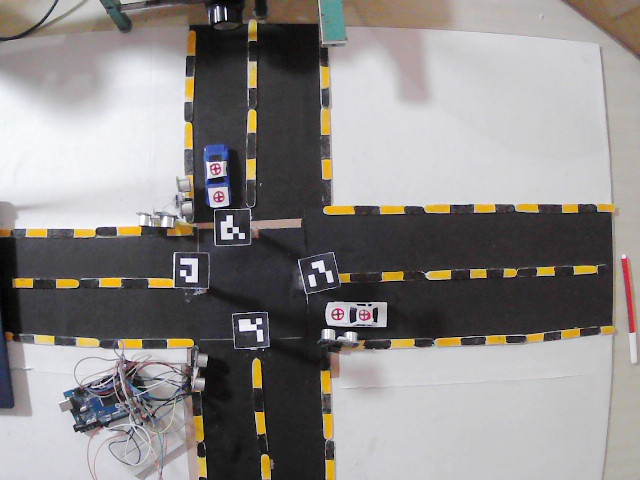aruco_marker: (299, 251, 345, 294), (232, 308, 271, 352), (213, 211, 254, 250), (174, 250, 210, 290)
emergency_vehicle: (200, 141, 233, 207), (325, 299, 391, 329)
uno_breadboard: (59, 364, 145, 434), (109, 409, 189, 477), (316, 329, 359, 354), (171, 175, 193, 220), (190, 347, 208, 395), (136, 211, 179, 229)
